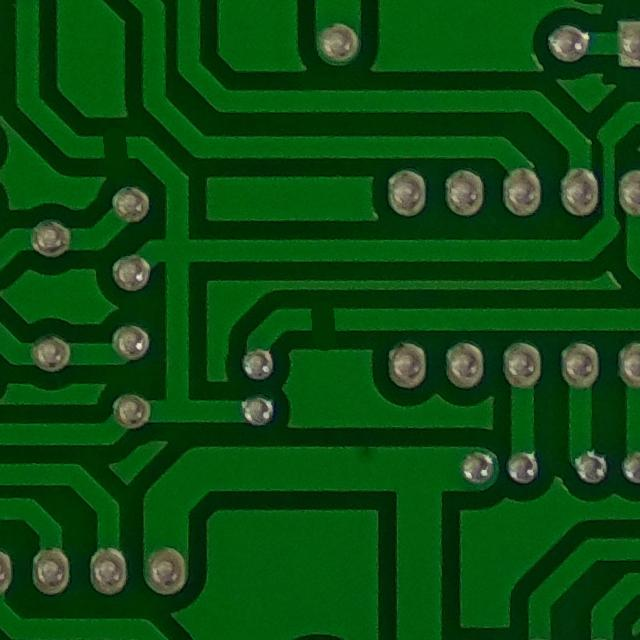open_circuit: (297, 295, 344, 345)
